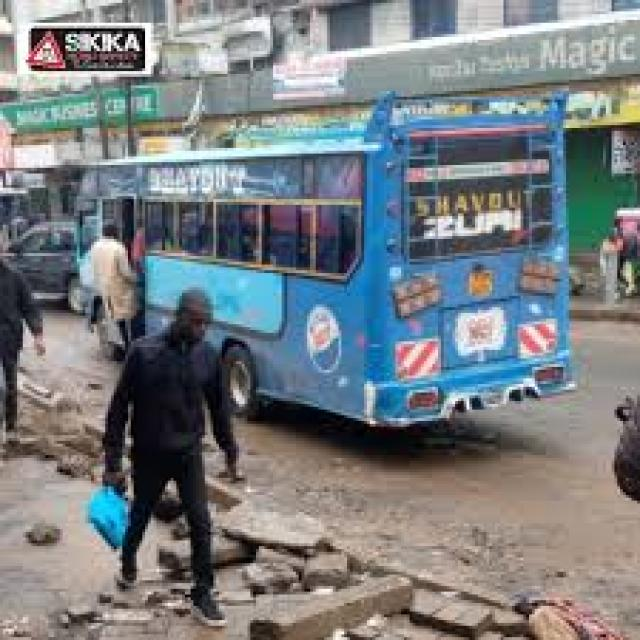bus: (55, 64, 611, 448)
